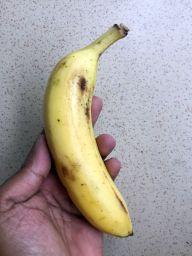Banana Ripe: (40, 20, 166, 243)
